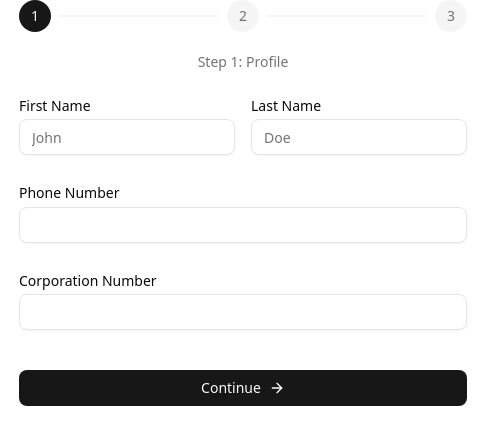
OnboardingPage › Step 1: Profile Form › only allows numeric input in corporation number field
Type "abc123def456" into the field labelled "Corporation Number".
click(243, 312); type("abc123def456")  # box 19,294 -> 467,330
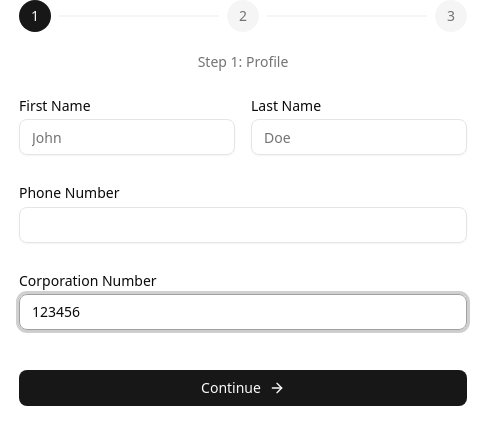
Expected: the field labelled "Corporation Number" holds "123456", 19,294 -> 467,330
